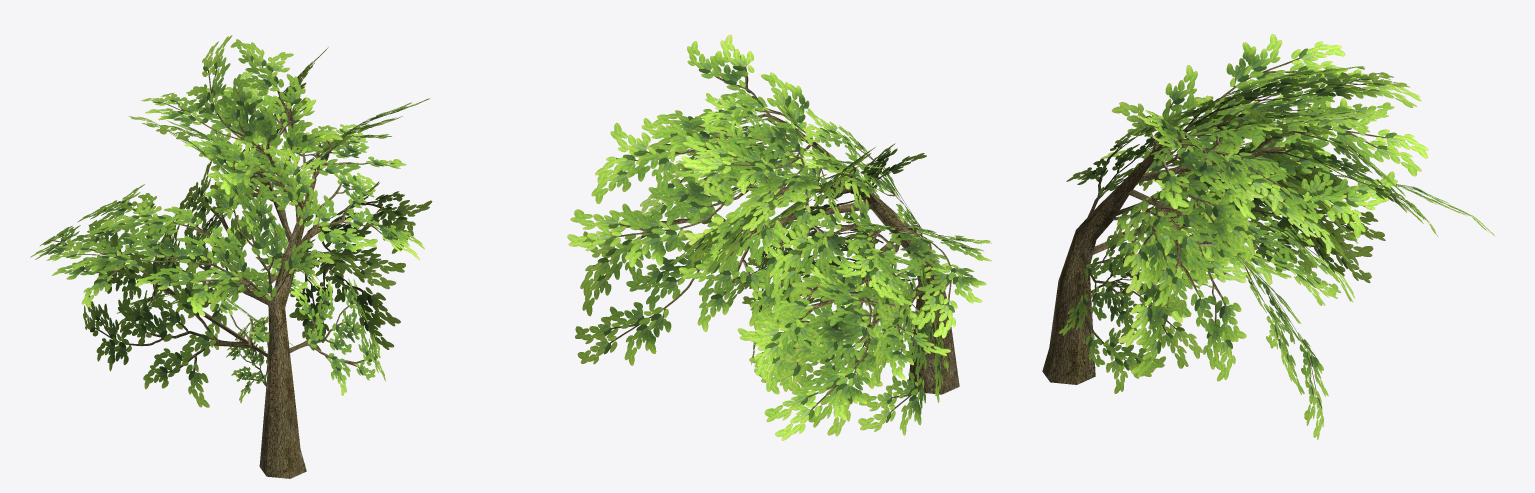
The model's file is watertree_leaves1_lod1.fbx.
The picture shows the model from 3 angles, left to right: view 1: azimuth 30°, elevation 25°; view 2: azimuth 150°, elevation 25°; view 3: azimuth 270°, elevation 25°; orthographic projection. The views are drawn at different scales.
Visible parts, largest first — view 1: Mesh Object; view 2: Mesh Object; view 3: Mesh Object.
Part boxes in pixels (x1,y1,x2,y2): Mesh Object: [30, 35, 432, 478]; Mesh Object: [567, 34, 991, 440]; Mesh Object: [1042, 34, 1494, 439].
Bounding box in the file's own units: 4.53 × 3.11 × 3.83.
